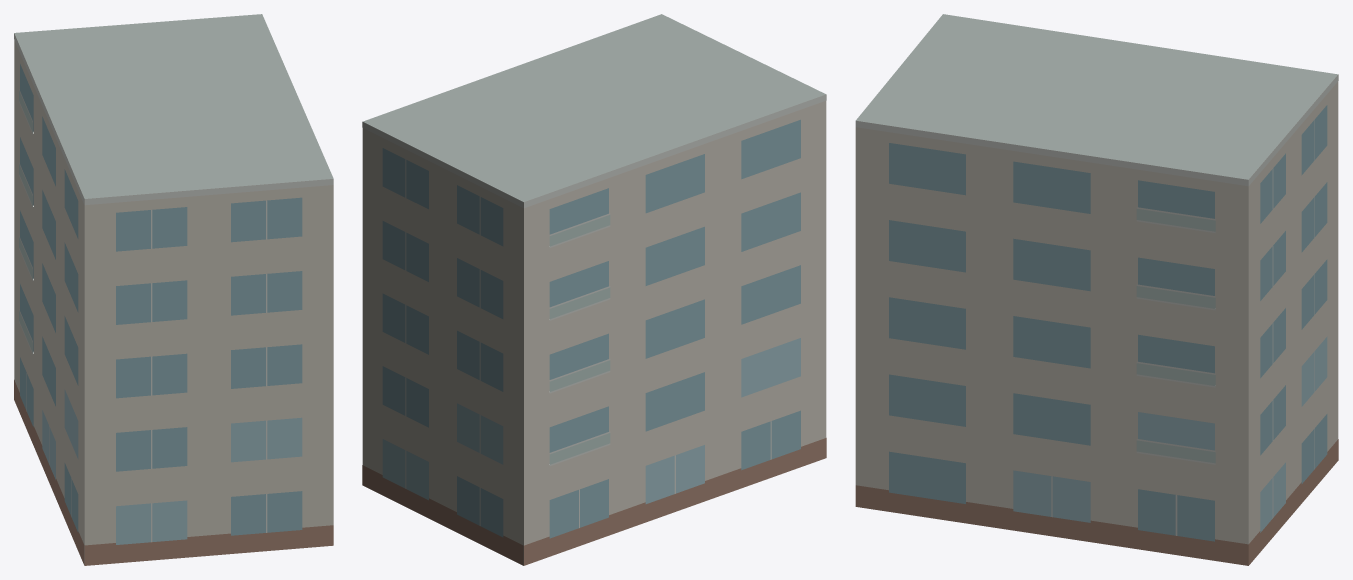
Rendered from survey-upis-32893528.glb.
3 views of the same model, side by side, from view 1: azimuth 30°, elevation 25°; view 2: azimuth 150°, elevation 25°; view 3: azimuth 270°, elevation 25° (orthographic). The views are drawn at different scales.
Visible parts, largest first — view 1: survey-upis-32893528.tmp; view 2: survey-upis-32893528.tmp; view 3: survey-upis-32893528.tmp.
Part boxes in pixels (x1,y1,x2,y2): survey-upis-32893528.tmp: (14,14,333,565); survey-upis-32893528.tmp: (362,14,826,565); survey-upis-32893528.tmp: (855,14,1338,565).
Size of the model in its own units: 13.27 by 14.4 by 16.33.
